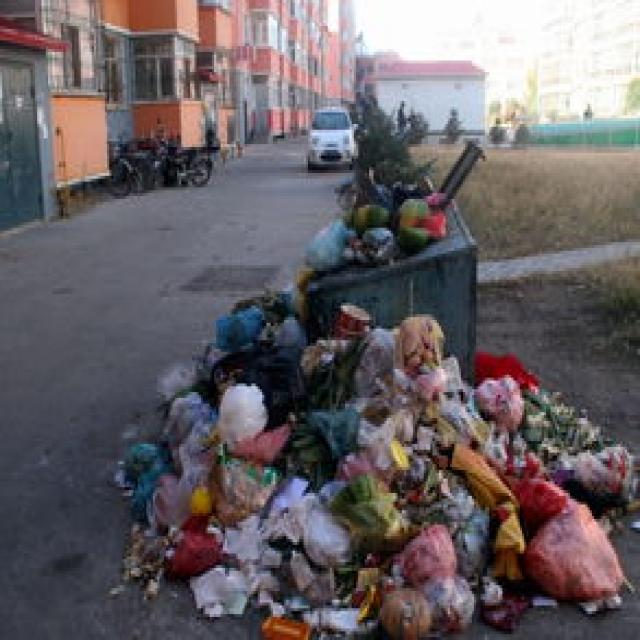garbage: (114, 162, 629, 637)
